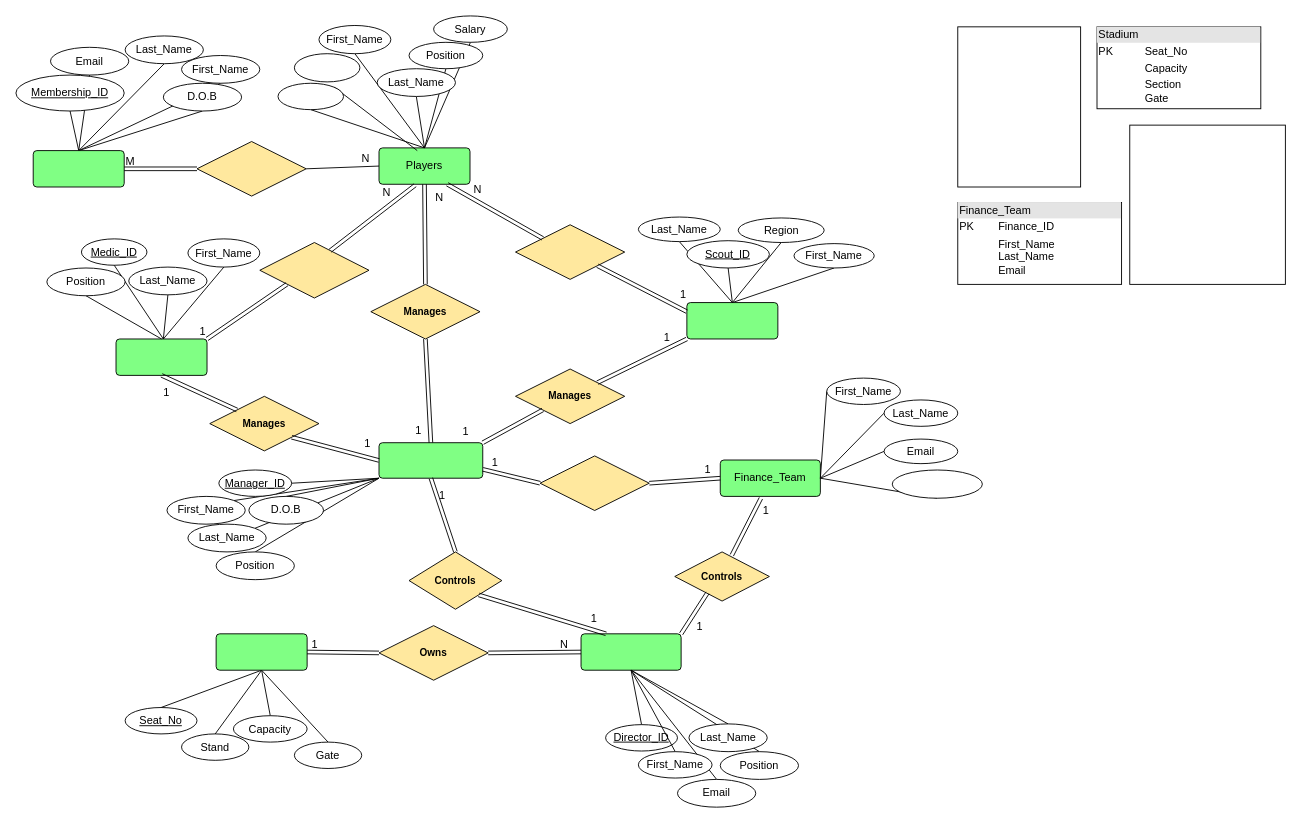
This 1301x824 diagram has some shape labels left out. The shapes that lost their labels are listed below. From the top down, each one's centre as x and y in pixels, then its label:
At (326,67): "Age".
At (310,96): "Player_ID".
At (1019,106): "Board_of_Directors PK Director_ID First_Name Last_Name Position Email FK Seat No".
At (78,168): "Fans".
At (251,168): "Support".
At (1207,204): "Fans PK Membership_ID FK Email First_Name Last_Name D.O.B Player_ID".
At (314,270): "Aid".
At (570,251): "Scout".
At (732,320): "Scout_Team".
At (161,356): "Medical_Team".
At (430,460): "Management_Team".
At (594,483): "Supply".
At (936,483): "Finance_ID".
At (261,651): "Stadium".
At (630,651): "Board_of_Directors".
